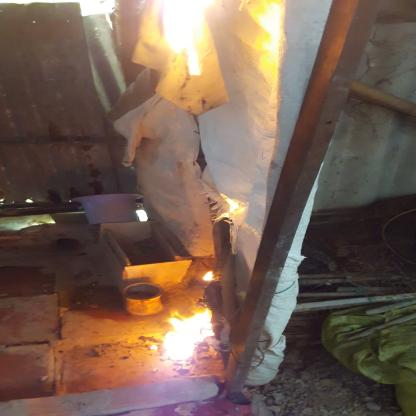fire: (154, 304, 226, 360)
